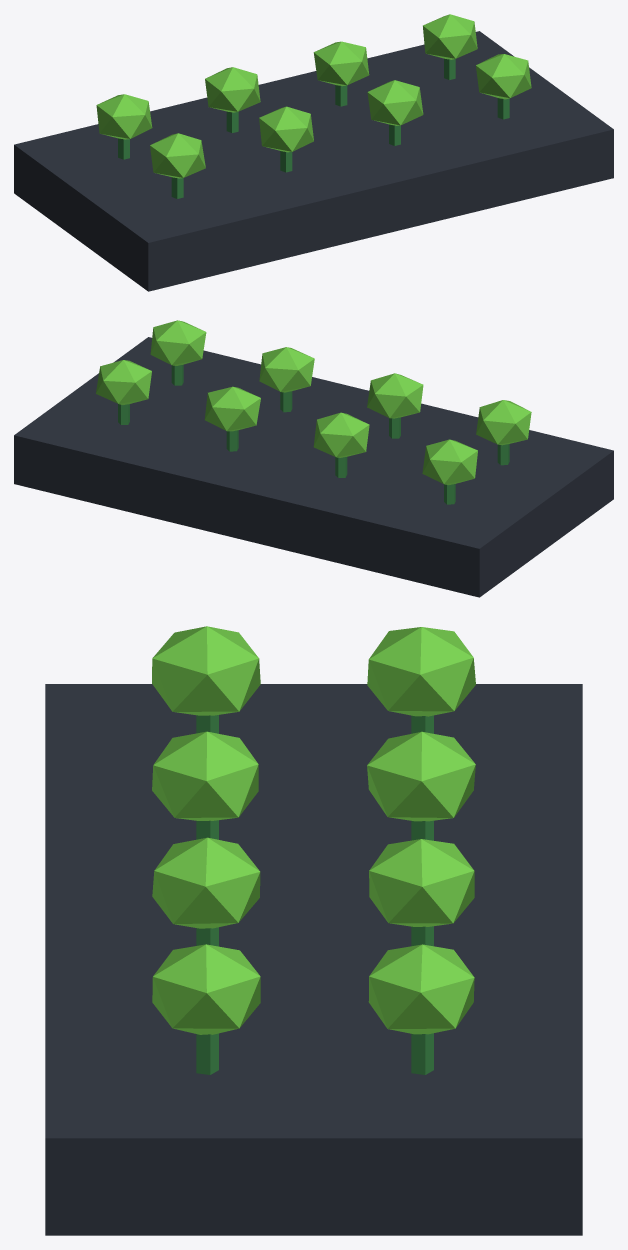
File: hydro_grow_tray.glb
3 views of the same model, one above another, from view 1: azimuth 30°, elevation 25°; view 2: azimuth 150°, elevation 25°; view 3: azimuth 270°, elevation 25° (orthographic). The views are drawn at different scales.
Parts seen in each view (by area): view 1: grow_tray; view 2: grow_tray; view 3: grow_tray.
Boxes of the visible parts, <box> form: grow_tray: <box>14,14,613,291</box>; grow_tray: <box>14,320,613,597</box>; grow_tray: <box>45,626,582,1235</box>.
Size of the model in its own units: 1.2 by 0.276 by 0.6.
